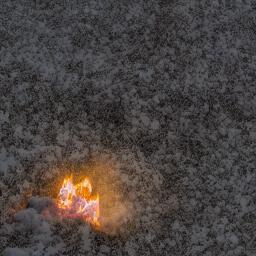Small fire: (44, 168, 114, 234)
